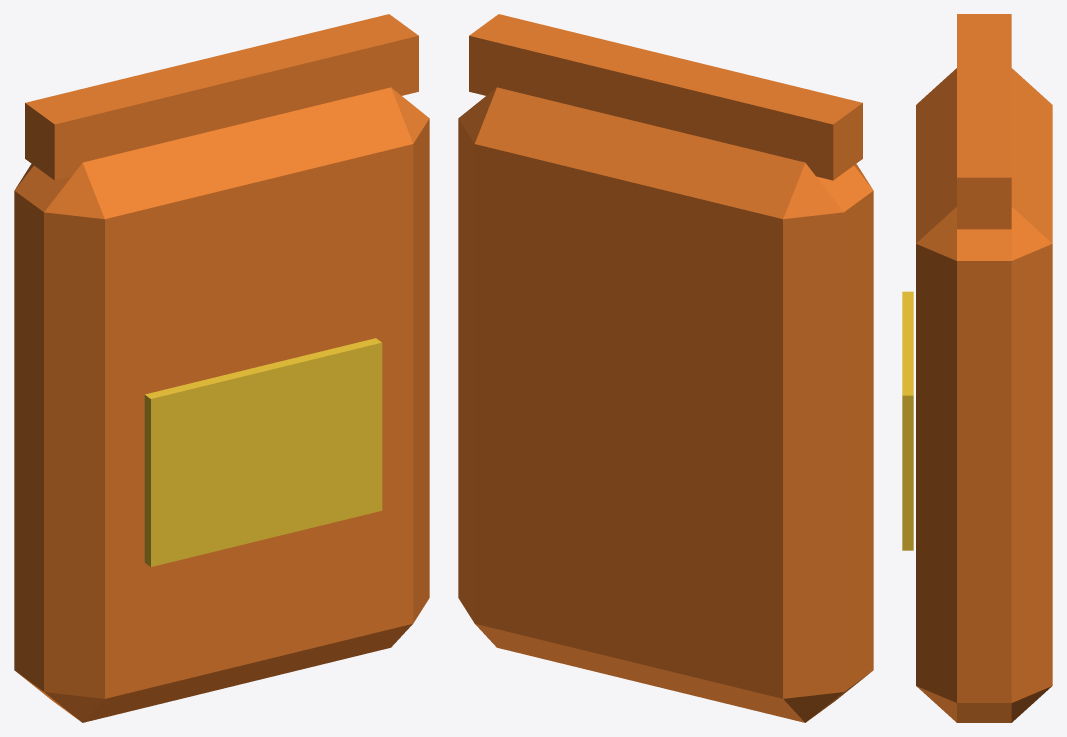
The model's file is chips.glb.
3 renders of one model, left to right at view 1: azimuth 30°, elevation 25°; view 2: azimuth 150°, elevation 25°; view 3: azimuth 270°, elevation 25°, orthographic. The views are drawn at different scales.
Parts seen in each view (by area): view 1: chips; view 2: chips; view 3: chips.
Boxes of the visible parts, x1,y1,x2,y2 form: chips: (14,14,429,722); chips: (458,14,873,722); chips: (902,14,1052,722).
Size of the model in its own units: 0.18 by 0.27 by 0.066.
Materials: 1 (1 with a texture image).
